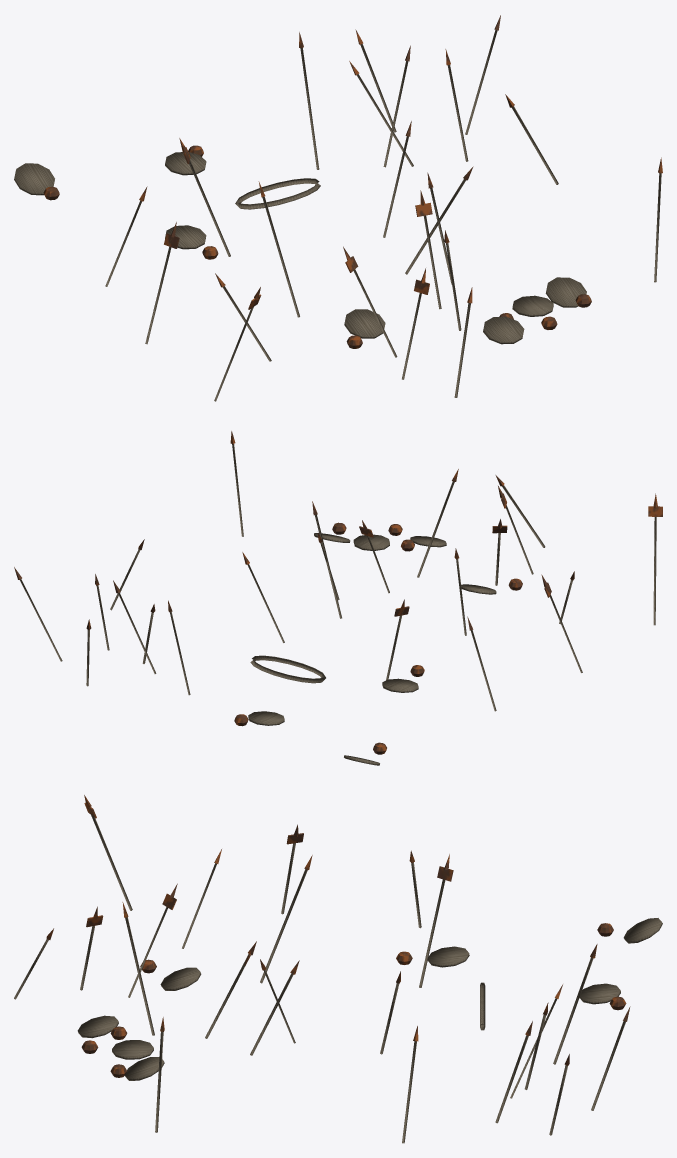
Rendered from battlefield_debris.glb.
3 renders of one model, top to bottom at view 1: azimuth 30°, elevation 25°; view 2: azimuth 150°, elevation 25°; view 3: azimuth 270°, elevation 25°, orthographic. The views are drawn at different scales.
Parts seen in each view (by area): view 1: Hafts, Iron; view 2: Hafts, Iron; view 3: Hafts, Iron.
Boxes of the visible parts, bbox=[...] form: Hafts: bbox=[14, 30, 661, 401]; Iron: bbox=[43, 15, 662, 348]; Hafts: bbox=[20, 444, 656, 765]; Iron: bbox=[14, 431, 662, 754]; Hafts: bbox=[14, 808, 662, 1143]; Iron: bbox=[46, 795, 630, 1077].
Bounding box in the file's own units: 12.48 × 3 × 13.85.
2 materials, 2 textured.
